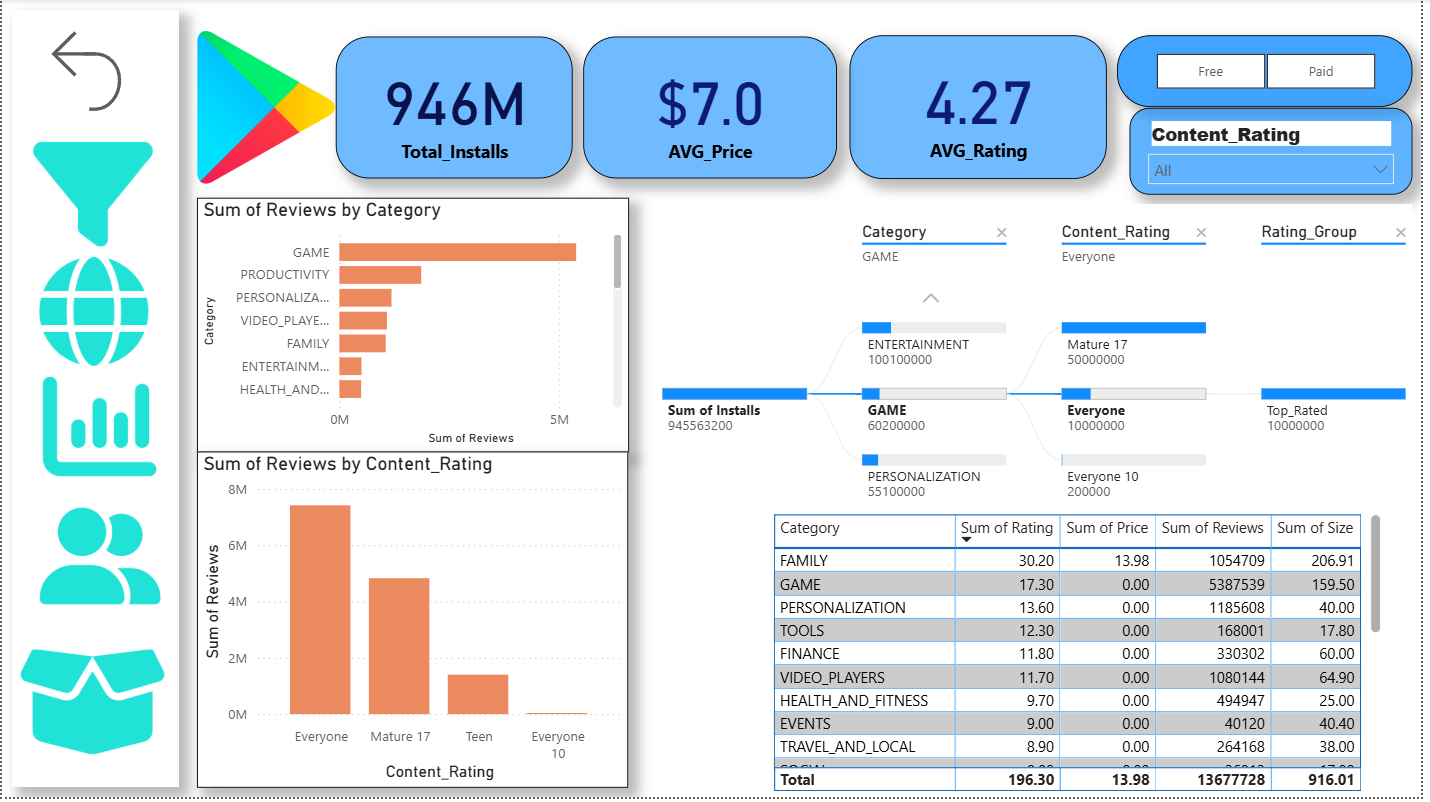

The page's visual inventory and layout, read from the dashboard file:
{"tool":"powerbi","page":{"name":"Page 1","canvas":[1280,720],"ordinal":0},"visuals":[{"type":"card","fields":{"Values":["Measures1.Total_Installs"]},"box":[300.8,34.2,214,128.4],"z":0},{"type":"card","fields":{"Values":["Measures1.AVG_Rating"]},"box":[764.3,33,232.3,129.6],"z":1000},{"type":"card","fields":{"Values":["Measures1.AVG_Price"]},"box":[524.6,34.2,228.7,128.4],"z":2000},{"type":"slicer","fields":{"Values":["PS_DATA.Type"]},"box":[1005.2,33,266.6,64.8],"z":3000},{"type":"slicer","fields":{"Values":["PS_DATA.Content_Rating"]},"box":[1016.2,97.8,255.6,78.3],"z":4000},{"type":"tableEx","fields":{"Values":["PS_DATA.Category","Sum(PS_DATA.Rating)","Sum(PS_DATA.Price)","Sum(PS_DATA.Reviews)","Sum(PS_DATA.Size)"]},"box":[689.6,460.2,558.3,259.7],"z":5000},{"type":"decompositionTreeVisual","fields":{"Analyze":["Sum(PS_DATA.Installs)"],"ExplainBy":["PS_DATA.Category","PS_DATA.Content_Rating","PS_DATA.Rating_Group"]},"box":[565.6,184.7,705.5,275.6],"z":6000},{"type":"image","box":[164.5,17.3,147.2,161.6],"z":7000},{"type":"shape","box":[8.7,10.1,150,701.2],"z":8000},{"type":"image","box":[0,124.1,164.5,103.9],"z":9000},{"type":"image","box":[5.8,228,154.4,108.2],"z":10000},{"type":"image","box":[0,336.2,176,99.6],"z":11000},{"type":"image","box":[28.9,441.5,118.3,121.2],"z":12000},{"type":"image","box":[5.8,581.4,151.5,103.9],"z":13000},{"type":"actionButton","box":[31.7,20.2,128.4,89.5],"z":14000},{"type":"clusteredBarChart","fields":{"Category":["PS_DATA.Category"],"Y":["Sum(PS_DATA.Reviews)"]},"box":[176,178.9,389.5,229.4],"z":15000},{"type":"columnChart","fields":{"Category":["PS_DATA.Content_Rating"],"Y":["Sum(PS_DATA.Reviews)"]},"box":[176,408,389,303],"z":16000}]}

Visuals, with their boxes on the page's 1280x720 design canvas (x1, y1, x2, y2). These are canvas units, not pixel positions in the 1430x802 screenshot, which may show the page scaled, cropped or inside an application window:
card - Measures1.Total_Installs: locate(301, 34, 515, 163)
card - Measures1.AVG_Rating: locate(764, 33, 997, 163)
card - Measures1.AVG_Price: locate(525, 34, 753, 163)
slicer - PS_DATA.Type: locate(1005, 33, 1272, 98)
slicer - PS_DATA.Content_Rating: locate(1016, 98, 1272, 176)
tableEx - PS_DATA.Category x Sum(PS_DATA.Rating): locate(690, 460, 1248, 720)
decompositionTreeVisual - Sum(PS_DATA.Installs) x PS_DATA.Category: locate(566, 185, 1271, 460)
image: locate(164, 17, 312, 179)
shape: locate(9, 10, 159, 711)
image: locate(0, 124, 164, 228)
image: locate(6, 228, 160, 336)
image: locate(0, 336, 176, 436)
image: locate(29, 442, 147, 563)
image: locate(6, 581, 157, 685)
actionButton: locate(32, 20, 160, 110)
clusteredBarChart - PS_DATA.Category x Sum(PS_DATA.Reviews): locate(176, 179, 566, 408)
columnChart - PS_DATA.Content_Rating x Sum(PS_DATA.Reviews): locate(176, 408, 565, 711)
